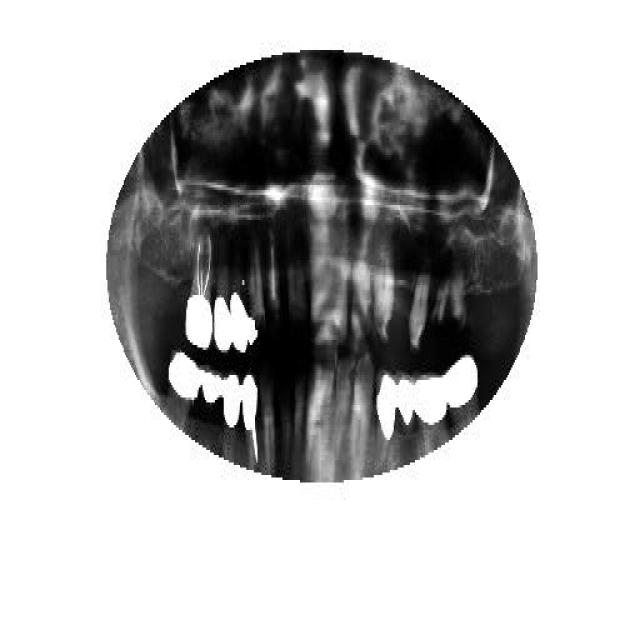Cavity: (247, 242, 265, 348), (266, 235, 282, 333), (430, 272, 449, 332), (449, 270, 466, 335)
Fillings: (164, 345, 200, 430), (445, 352, 479, 440), (414, 370, 448, 458), (373, 365, 398, 480), (212, 233, 232, 355), (220, 368, 241, 462), (247, 242, 265, 350), (230, 285, 248, 355), (399, 365, 415, 437), (202, 362, 222, 408)
Implant: (185, 230, 214, 352), (240, 373, 259, 475)
